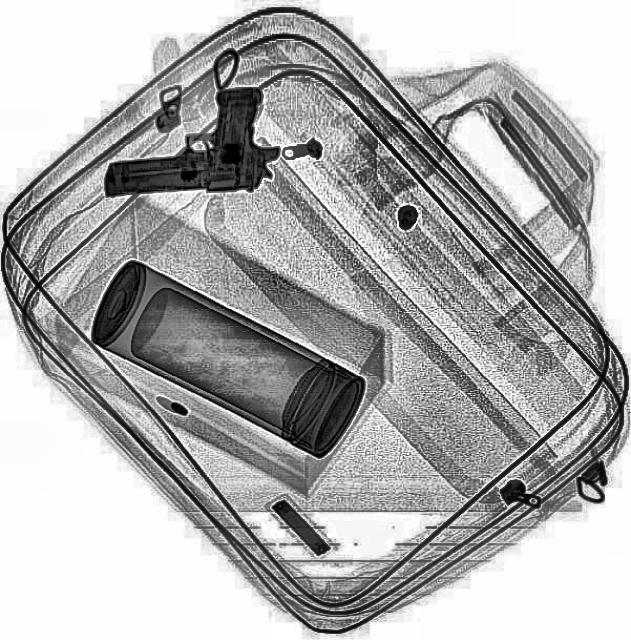Gun: (98, 83, 282, 197)
